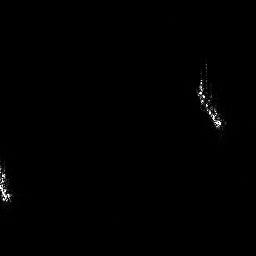ship: (195, 63, 228, 131), (1, 162, 14, 204)
